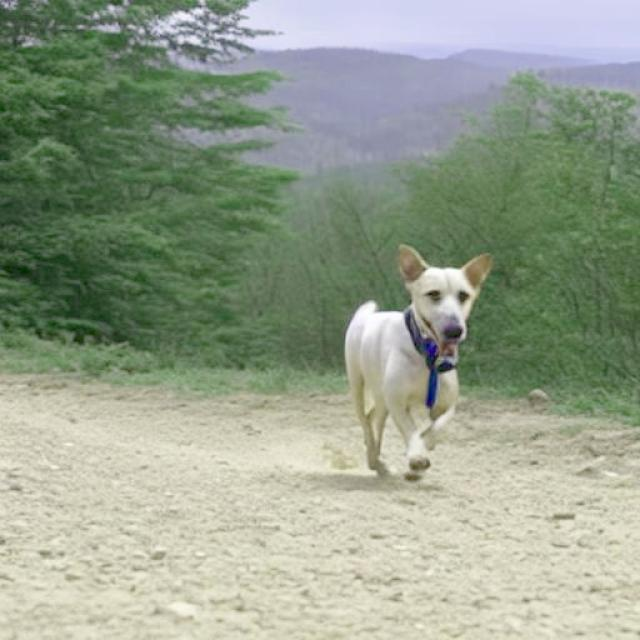Dog: (344, 243, 494, 481)
